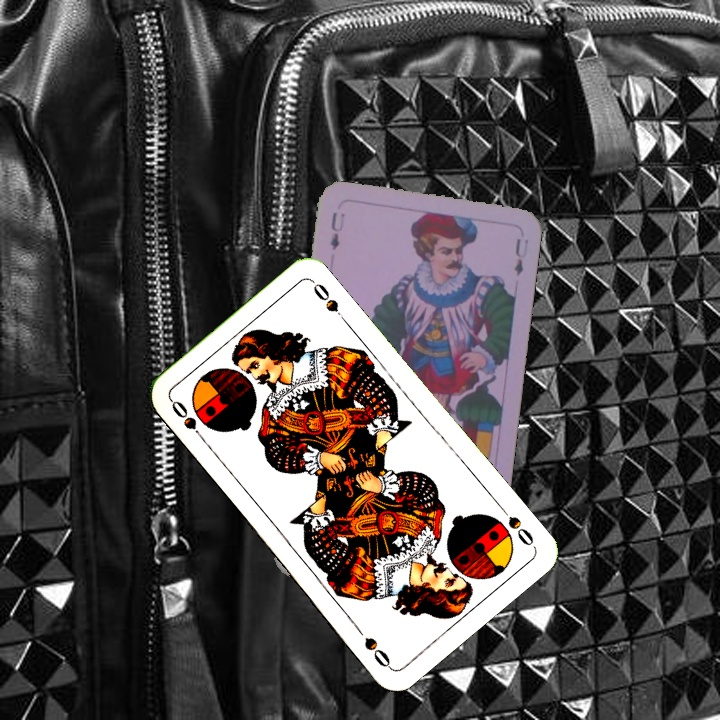EU: (326, 208, 347, 253)
SO: (494, 501, 537, 550), (167, 396, 209, 446)
